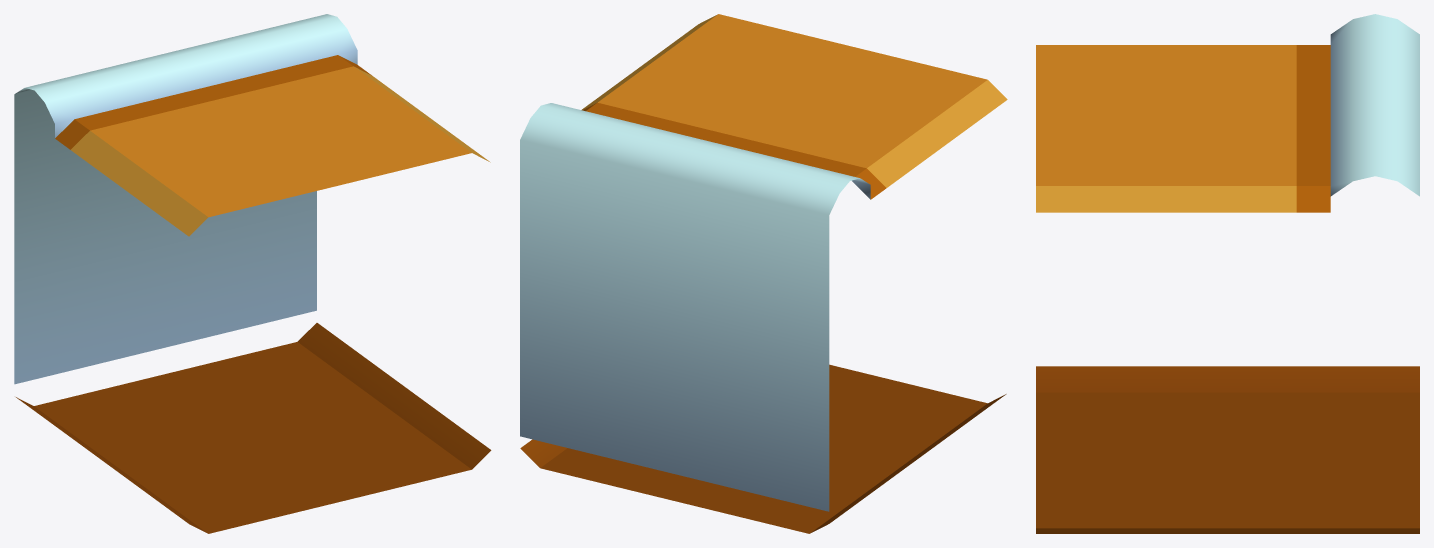
Rendered from mid_pool_1.fbx.
3 views of the same model, side by side, from view 1: azimuth 30°, elevation 25°; view 2: azimuth 150°, elevation 25°; view 3: azimuth 270°, elevation 25° (orthographic). The views are drawn at different scales.
Visible parts, largest first — view 1: mid_pool_1; view 2: mid_pool_1; view 3: mid_pool_1.
Part boxes in pixels (x1,y1,x2,y2): mid_pool_1: [14, 14, 491, 533]; mid_pool_1: [520, 14, 1007, 533]; mid_pool_1: [1036, 14, 1419, 533].
Size of the model in its own units: 2 by 2.12 by 2.
